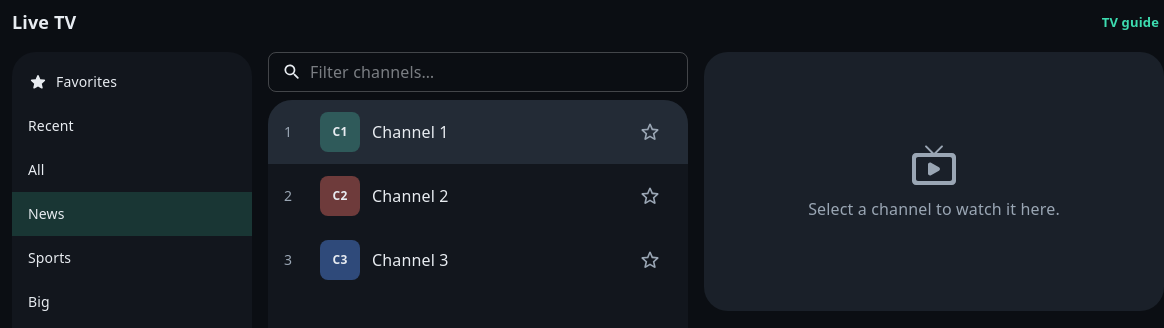
Test: LIV-02 — stream resolution in the player area › a lost vault key asks to re-enter the password, with a link to My lists
Step 1. Click the text "Channel 1" → (410, 132), box [371,120,449,143]
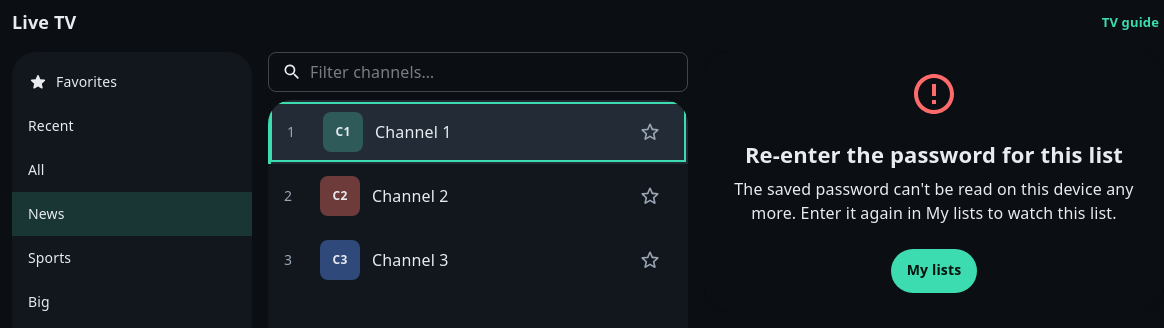
Check: the heading "Re-enter the password for this list" is shown, box [720,140,1148,169]
